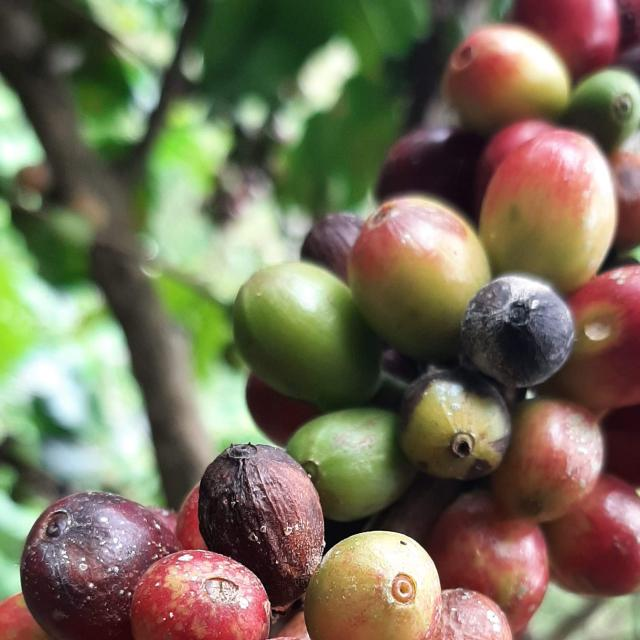green: (233, 262, 382, 411), (287, 408, 416, 522), (565, 67, 640, 151)
red: (19, 493, 180, 640), (198, 444, 325, 607), (462, 274, 575, 388), (400, 370, 512, 481), (377, 127, 486, 215), (516, 0, 621, 79), (246, 373, 320, 447), (301, 213, 364, 282), (604, 405, 640, 486)
yellow: (348, 196, 492, 360), (480, 128, 619, 294), (427, 492, 551, 634), (305, 532, 442, 640), (443, 23, 572, 133), (492, 398, 605, 523), (552, 265, 640, 411), (130, 551, 270, 640), (545, 476, 640, 597), (434, 589, 513, 640), (611, 151, 640, 249), (0, 595, 51, 640), (175, 484, 208, 551)
